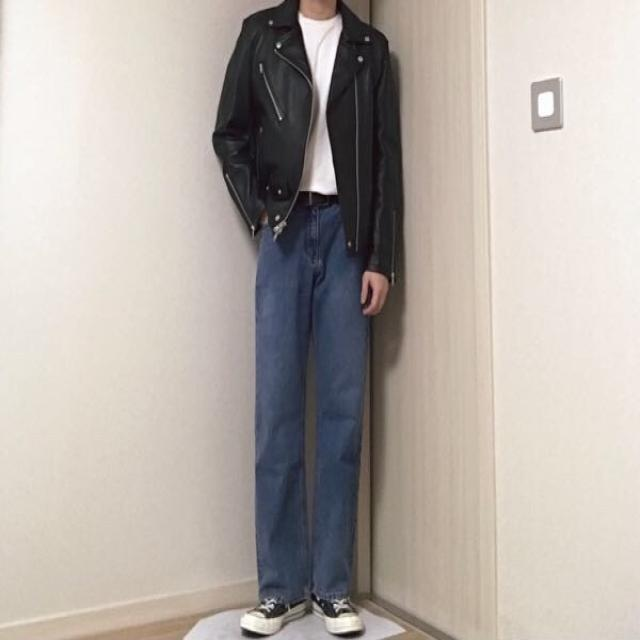denimpants: (256, 190, 372, 600)
jacket: (211, 0, 397, 279)
